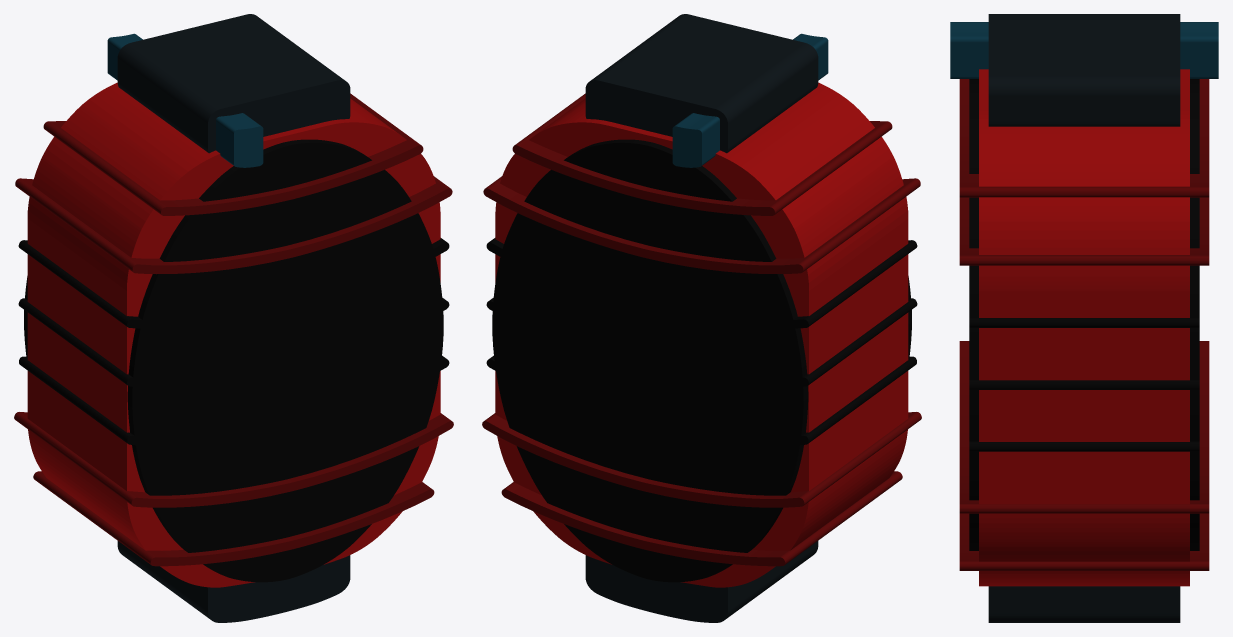
3 views of the same model, side by side, from view 1: azimuth 30°, elevation 25°; view 2: azimuth 150°, elevation 25°; view 3: azimuth 270°, elevation 25° (orthographic). The views are drawn at different scales.
Visible parts, largest first — view 1: U+1F3EE_layer02_obj02, U+1F3EE_layer01_obj00, U+1F3EE_layer00_obj01, U+1F3EE_layer00_obj00, U+1F3EE_layer03_obj03, U+1F3EE_layer03_obj00, U+1F3EE_layer03_obj01, U+1F3EE_layer03_obj02, U+1F3EE_layer02_obj00, U+1F3EE_layer02_obj01, U+1F3EE_layer02_obj03, U+1F3EE_layer04_obj00; view 2: U+1F3EE_layer02_obj02, U+1F3EE_layer01_obj00, U+1F3EE_layer00_obj01, U+1F3EE_layer00_obj00, U+1F3EE_layer03_obj03, U+1F3EE_layer03_obj00, U+1F3EE_layer03_obj01, U+1F3EE_layer03_obj02, U+1F3EE_layer02_obj00, U+1F3EE_layer02_obj01, U+1F3EE_layer04_obj00, U+1F3EE_layer02_obj03; view 3: U+1F3EE_layer01_obj00, U+1F3EE_layer00_obj01, U+1F3EE_layer02_obj02, U+1F3EE_layer00_obj00, U+1F3EE_layer03_obj01, U+1F3EE_layer03_obj00, U+1F3EE_layer04_obj00, U+1F3EE_layer03_obj03, U+1F3EE_layer03_obj02, U+1F3EE_layer02_obj00, U+1F3EE_layer02_obj01, U+1F3EE_layer02_obj03.
Boxes of the visible parts, box(x1,y1,x2,y2) form: U+1F3EE_layer02_obj02: box(24, 139, 443, 582); U+1F3EE_layer01_obj00: box(27, 82, 440, 587); U+1F3EE_layer00_obj01: box(117, 14, 350, 153); U+1F3EE_layer00_obj00: box(117, 541, 350, 622); U+1F3EE_layer03_obj03: box(15, 176, 452, 274); U+1F3EE_layer03_obj00: box(43, 93, 423, 215); U+1F3EE_layer03_obj01: box(14, 412, 453, 507); U+1F3EE_layer03_obj02: box(33, 471, 434, 566); U+1F3EE_layer02_obj00: box(18, 238, 449, 328); U+1F3EE_layer02_obj01: box(18, 298, 449, 387); U+1F3EE_layer02_obj03: box(19, 355, 449, 445); U+1F3EE_layer04_obj00: box(107, 33, 263, 167); U+1F3EE_layer02_obj02: box(492, 139, 911, 582); U+1F3EE_layer01_obj00: box(495, 82, 908, 587); U+1F3EE_layer00_obj01: box(585, 14, 818, 153); U+1F3EE_layer00_obj00: box(585, 541, 818, 622); U+1F3EE_layer03_obj03: box(483, 176, 920, 274); U+1F3EE_layer03_obj00: box(512, 93, 892, 215); U+1F3EE_layer03_obj01: box(482, 412, 921, 507); U+1F3EE_layer03_obj02: box(501, 471, 902, 566); U+1F3EE_layer02_obj00: box(486, 238, 917, 328); U+1F3EE_layer02_obj01: box(486, 298, 917, 387); U+1F3EE_layer04_obj00: box(672, 33, 828, 167); U+1F3EE_layer02_obj03: box(486, 355, 916, 445); U+1F3EE_layer01_obj00: box(979, 69, 1189, 586); U+1F3EE_layer00_obj01: box(988, 14, 1180, 126); U+1F3EE_layer02_obj02: box(969, 79, 1199, 550); U+1F3EE_layer00_obj00: box(988, 586, 1180, 622); U+1F3EE_layer03_obj01: box(959, 341, 1209, 513); U+1F3EE_layer03_obj00: box(959, 79, 1209, 197); U+1F3EE_layer04_obj00: box(950, 22, 1218, 78); U+1F3EE_layer03_obj03: box(959, 197, 1209, 265); U+1F3EE_layer03_obj02: box(959, 513, 1209, 570); U+1F3EE_layer02_obj00: box(969, 315, 1199, 327); U+1F3EE_layer02_obj01: box(969, 379, 1199, 389); U+1F3EE_layer02_obj03: box(969, 441, 1199, 451).
Bounding box in the file's own units: 0.2062 × 0.3172 × 0.14.
